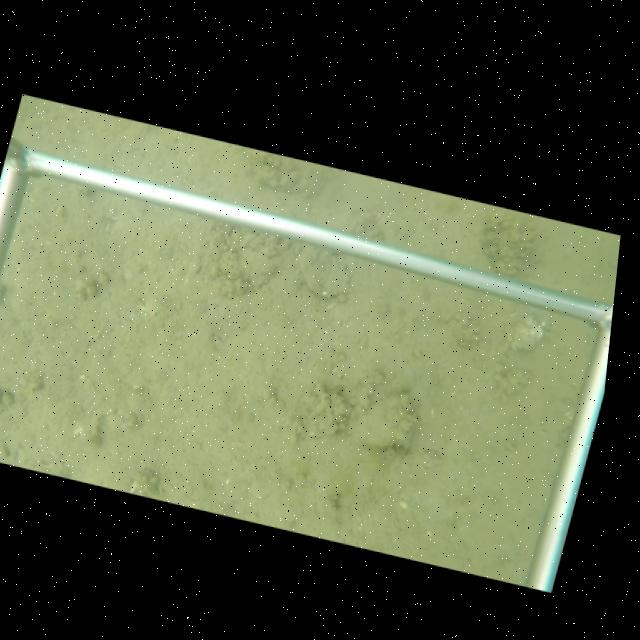Oyster-Closed: (351, 392, 420, 452)
Oyster-Indeterminate: (294, 244, 354, 300), (499, 308, 547, 355)
